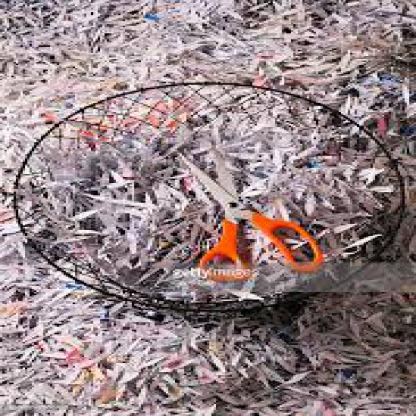paper: (0, 0, 414, 415), (72, 127, 380, 297)
